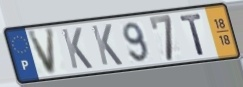7: (147, 13, 175, 63)
9: (121, 20, 151, 64)
K: (89, 22, 125, 67), (59, 26, 95, 71)
T: (178, 12, 207, 57)
V: (26, 26, 57, 78)
